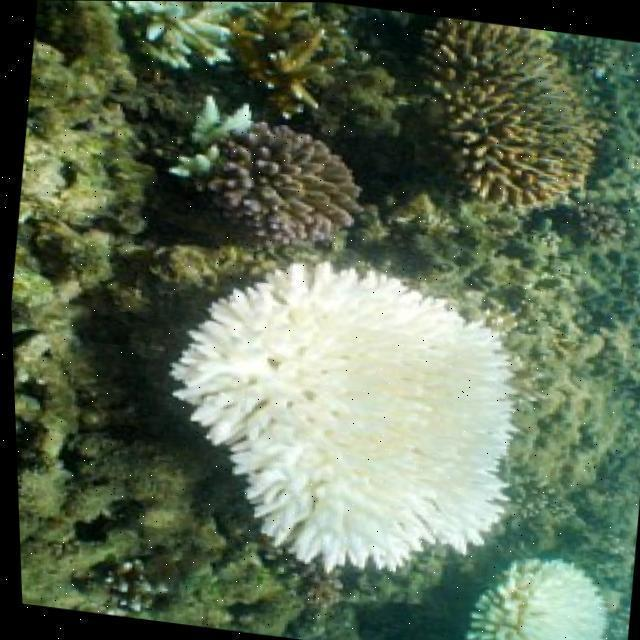Bleached Coral: (123, 231, 545, 592), (437, 535, 632, 640)
